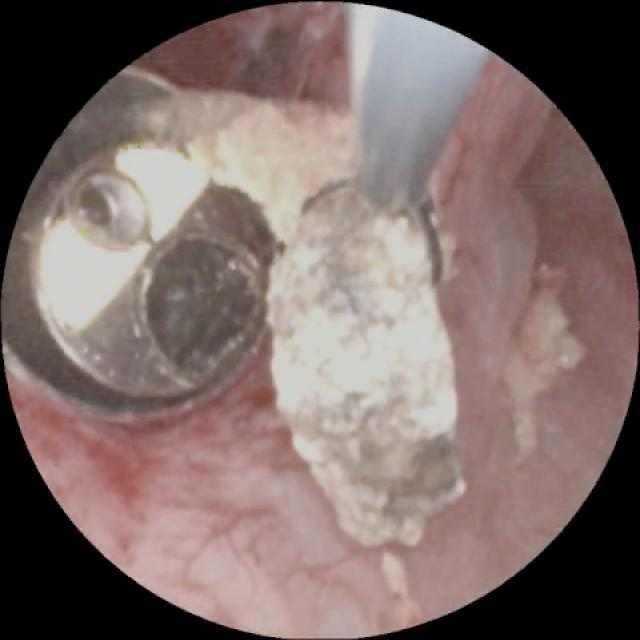stone: (127, 88, 459, 544), (502, 267, 587, 461)
